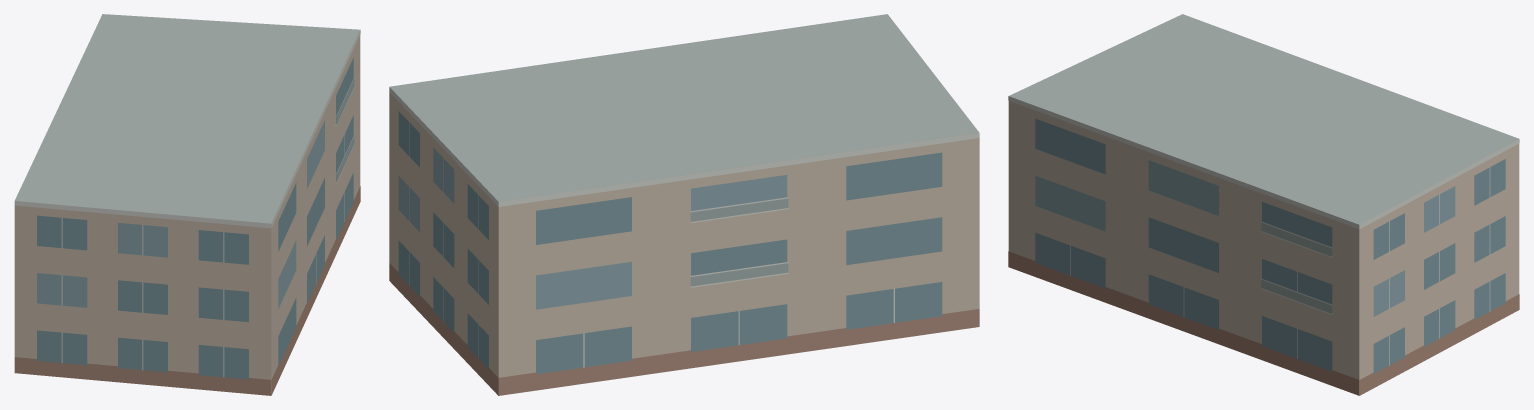
Rendered from survey-upis-32890242.glb.
3 views of the same model, side by side, from view 1: azimuth 30°, elevation 25°; view 2: azimuth 150°, elevation 25°; view 3: azimuth 270°, elevation 25° (orthographic). The views are drawn at different scales.
Parts seen in each view (by area): view 1: survey-upis-32890242.tmp; view 2: survey-upis-32890242.tmp; view 3: survey-upis-32890242.tmp.
Boxes of the visible parts, x1,y1,x2,y2 form: survey-upis-32890242.tmp: (14, 14, 360, 395); survey-upis-32890242.tmp: (389, 14, 979, 395); survey-upis-32890242.tmp: (1008, 14, 1519, 395).
Size of the model in its own units: 24.18 by 9.15 by 24.77.
